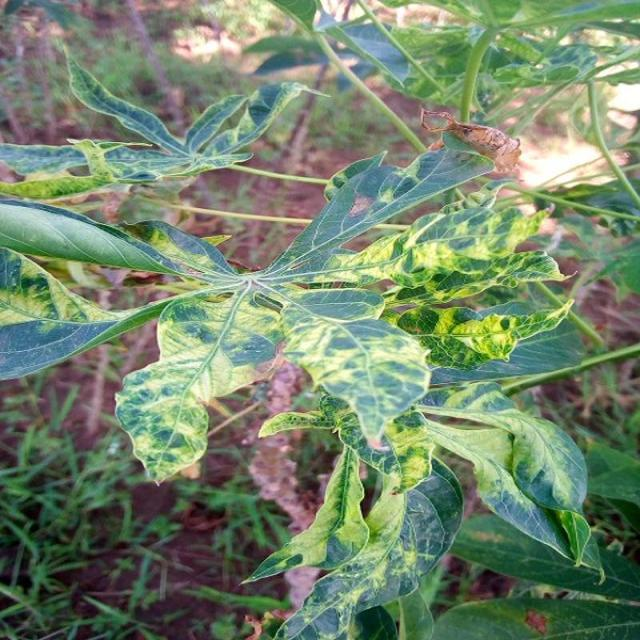cassava leaf: (1, 39, 604, 637)
